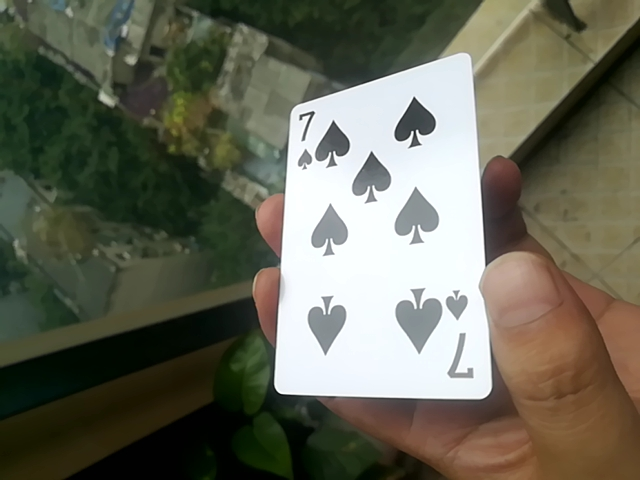ht 7: (276, 46, 486, 409)
